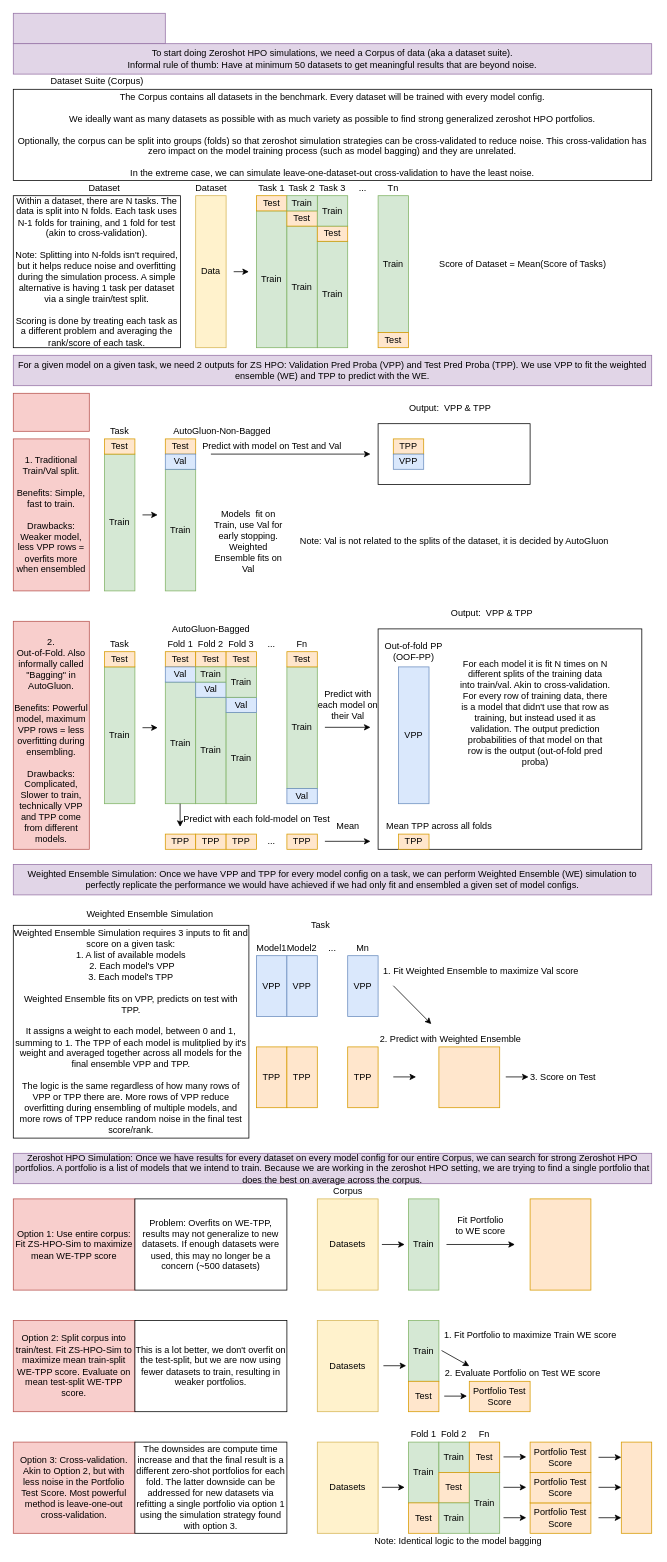
Some shapes in this 667 by 1562 pixel diagram are drawn without their labels. Here are the shapes that lost their labels. From the top down, the centre of each, then its label:
At (x=89, y=28): "Zeroshot HPO Project Cheat-Sheet By Nick Erickson".
At (x=51, y=412): "2 methods to get VPP and TPP".
At (x=469, y=1077): "Weighted Ensemble TPP".
At (x=560, y=1244): "Portfolio Train Score (Overfit)".
At (x=636, y=1487): "Portfolio Test Score (Mean)".
